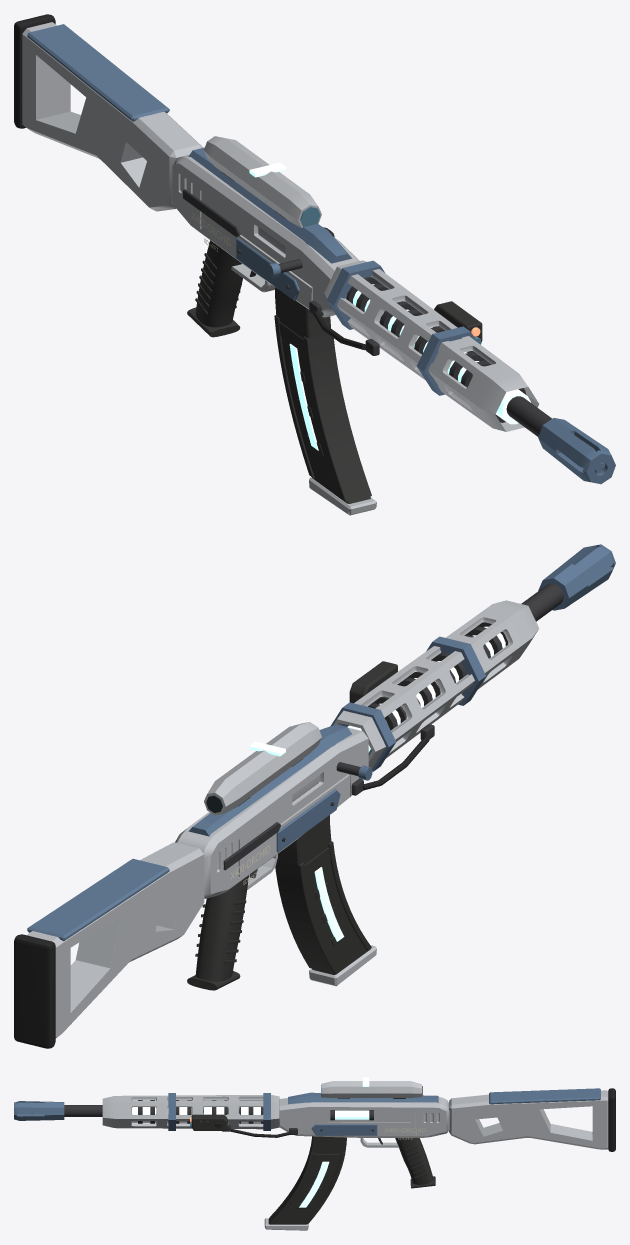
The model's file is orchid.glb.
The picture shows the model from 3 angles, top to bottom: view 1: azimuth 30°, elevation 25°; view 2: azimuth 150°, elevation 25°; view 3: azimuth 270°, elevation 25°; orthographic projection. The views are drawn at different scales.
Parts seen in each view (by area): view 1: Body, opt_laser; view 2: Body, opt_laser; view 3: Body, opt_laser.
Boxes of the visible parts, x1=… form: Body: x1=14, y1=14, x2=615, y2=515; opt_laser: x1=434, y1=301, x2=482, y2=344; Body: x1=14, y1=544, x2=615, y2=1048; opt_laser: x1=349, y1=661, x2=397, y2=703; Body: x1=14, y1=1077, x2=615, y2=1230; opt_laser: x1=190, y1=1114, x2=227, y2=1130.
Bounding box in the file's own units: 0.112 × 0.2905 × 1.08.
